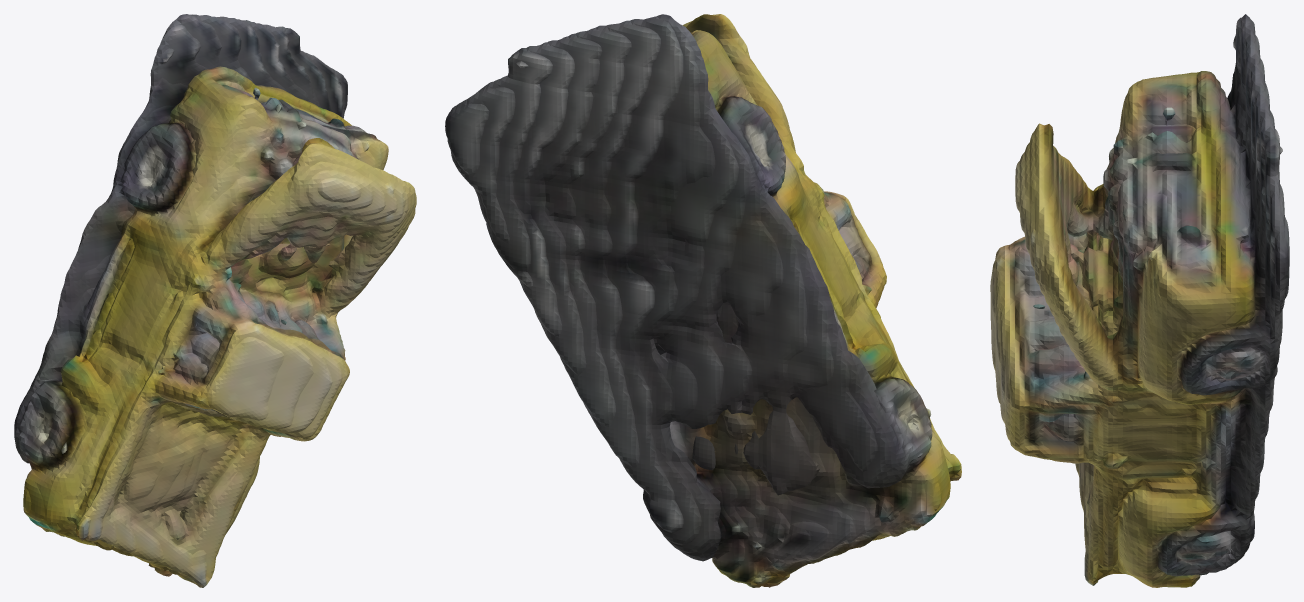
The model's file is 000018_yellow truck_pick-up truck_classic pickup truck.glb.
3 renders of one model, left to right at view 1: azimuth 30°, elevation 25°; view 2: azimuth 150°, elevation 25°; view 3: azimuth 270°, elevation 25°, orthographic. The views are drawn at different scales.
Visible parts, largest first — view 1: world; view 2: world; view 3: world.
Boxes of the visible parts, <box> form: world: <box>14,14,416,587</box>; world: <box>445,14,961,587</box>; world: <box>990,14,1289,587</box>.
Bounding box in the file's own units: 0.707 × 0.9243 × 0.4158.
